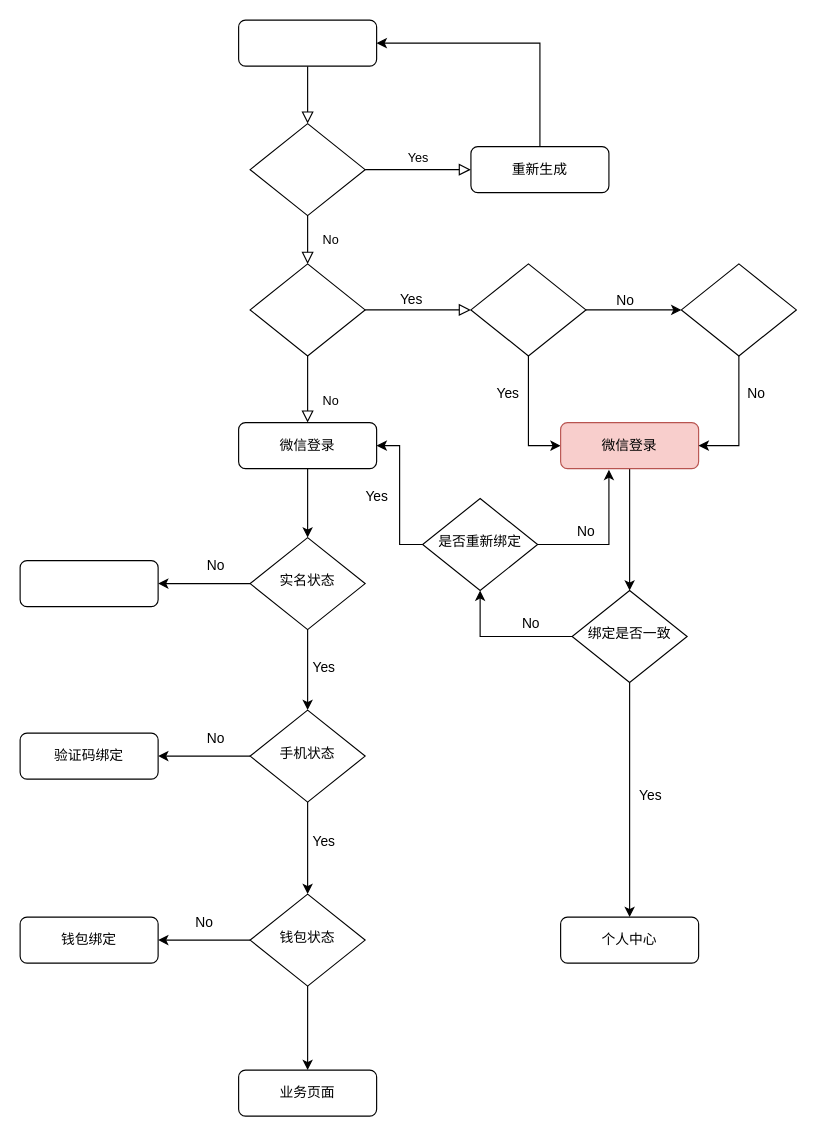
Image size: 817x1136. Some labels were removed from this diagram. Here are the shapes that lost their labels. From the top down, the box of each, then its label:
(237, 19, 377, 66): 扫码
(249, 122, 365, 216): sign是否使用
(249, 263, 365, 356): 是否绑定
(470, 263, 586, 356): 登录态是否为空
(680, 263, 796, 356): 用户是否相同
(19, 559, 158, 607): 人脸识别
